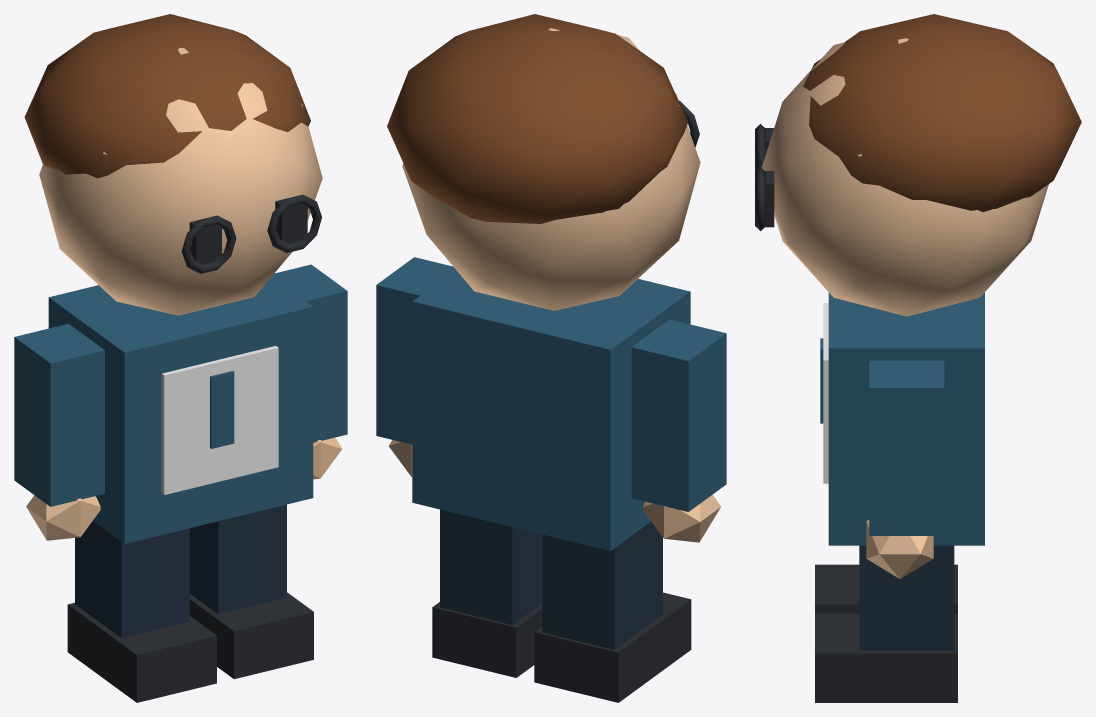
File: npc_clerk.glb
3 renders of one model, left to right at view 1: azimuth 30°, elevation 25°; view 2: azimuth 150°, elevation 25°; view 3: azimuth 270°, elevation 25°, orthographic. The views are drawn at different scales.
Visible parts, largest first — view 1: head, torso, legR, armR, legL, armL; view 2: head, torso, legR, armR, legL, armL; view 3: head, torso, legL, armL, legR.
Part boxes in pixels (left/top/right/bottom): head: left=24, top=14, right=322, bottom=315; torso: left=48, top=277, right=313, bottom=543; legR: left=67, top=521, right=216, bottom=702; armR: left=14, top=323, right=104, bottom=540; legL: left=189, top=504, right=313, bottom=679; armL: left=272, top=264, right=347, bottom=479; head: left=387, top=14, right=700, bottom=310; torso: left=412, top=270, right=690, bottom=550; legR: left=534, top=522, right=691, bottom=702; armR: left=631, top=319, right=726, bottom=542; legL: left=432, top=509, right=542, bottom=677; armL: left=376, top=257, right=455, bottom=476; head: left=755, top=14, right=1081, bottom=316; torso: left=820, top=292, right=984, bottom=545; legL: left=815, top=545, right=957, bottom=702; armL: left=866, top=360, right=944, bottom=578; legR: left=815, top=564, right=957, bottom=613.
Size of the model in its own units: 0.52 by 1.01 by 0.4803.
